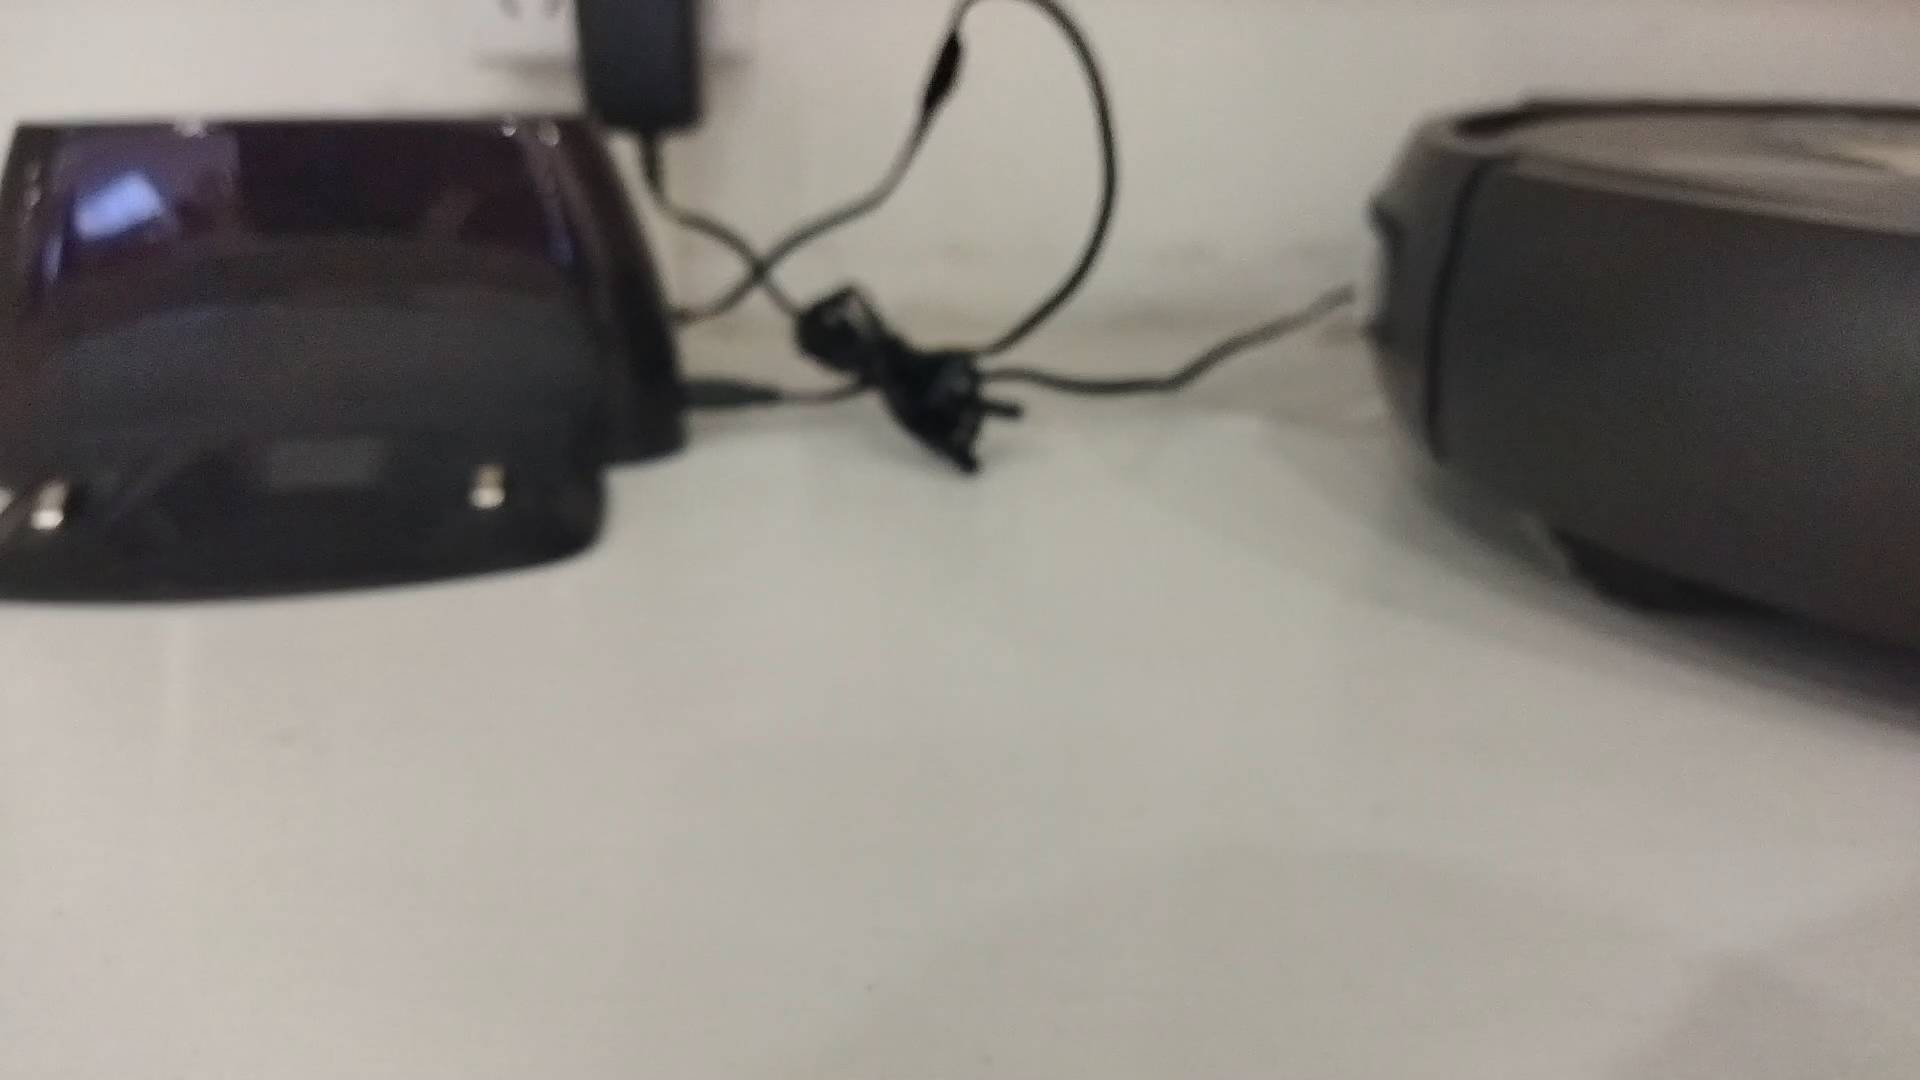recharge seat: (1, 109, 686, 607)
